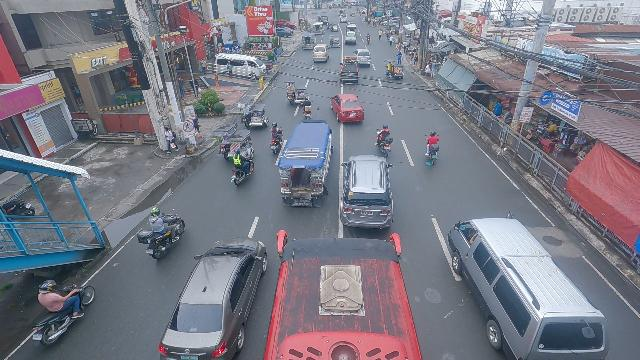bus: (269, 229, 415, 360)
car: (156, 235, 267, 355), (339, 154, 394, 234), (331, 94, 365, 123), (339, 59, 359, 84), (312, 44, 329, 62), (355, 49, 371, 67), (344, 30, 357, 45)
jeepney: (277, 119, 334, 207), (301, 33, 316, 51), (313, 22, 324, 32), (346, 22, 357, 32)
motorcycle: (29, 279, 98, 347), (138, 207, 188, 261), (229, 149, 256, 186), (375, 124, 394, 159), (424, 130, 441, 165), (268, 122, 286, 155), (301, 98, 313, 122), (366, 33, 371, 44)
van: (448, 215, 612, 360)
